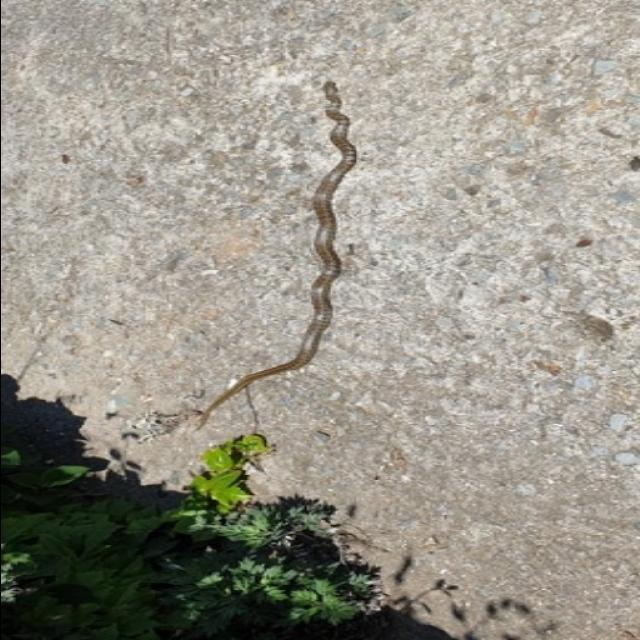snake: (180, 70, 362, 432)
